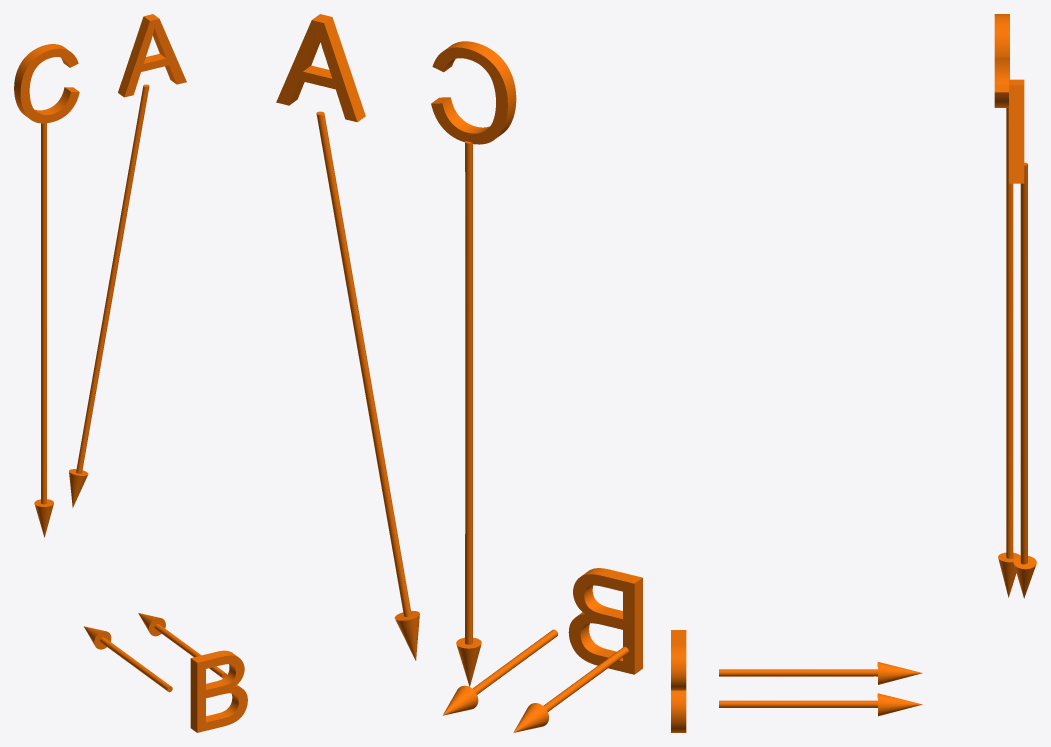
File: s3arrow.glb
The picture shows the model from 3 angles, left to right: view 1: azimuth 30°, elevation 25°; view 2: azimuth 150°, elevation 25°; view 3: azimuth 270°, elevation 25°; orthographic projection. The views are drawn at different scales.
Parts seen in each view (by area): view 1: Node; view 2: Node; view 3: Node.
Part boxes in pixels (x1,y1,x2,y2): Node: (14,14,247,732); Node: (276,14,642,732); Node: (671,14,1036,732).
Bounding box in the file's own units: 3.86 × 12.49 × 6.
